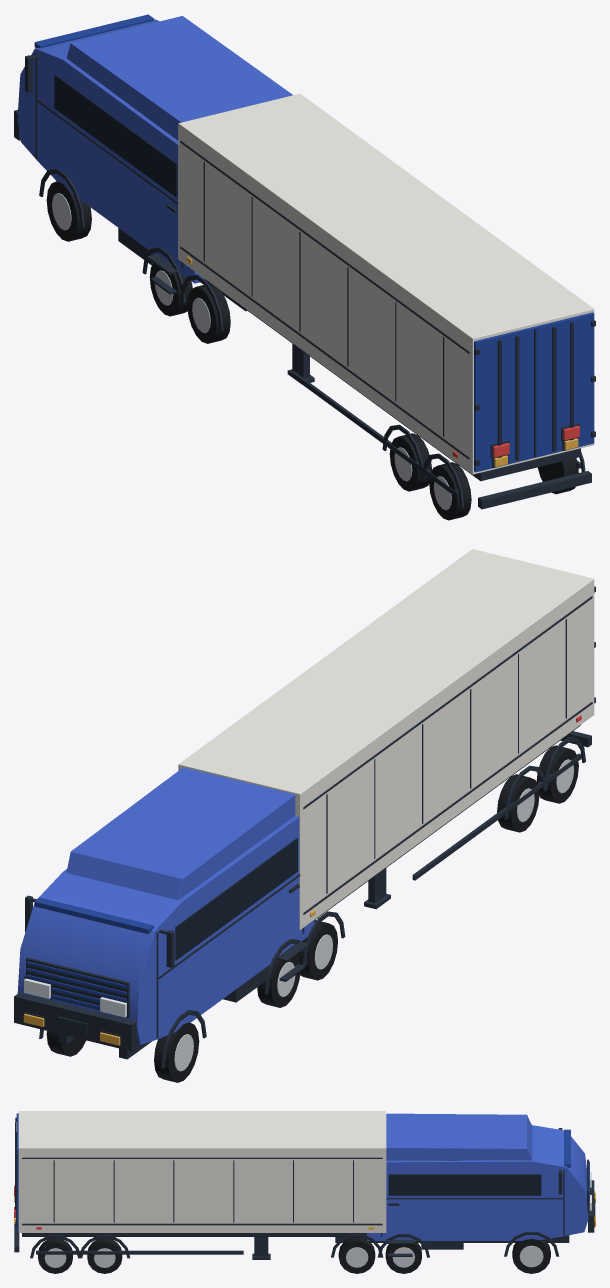
File: veh_truck_semi_01.glb
The picture shows the model from 3 angles, top to bottom: view 1: azimuth 30°, elevation 25°; view 2: azimuth 150°, elevation 25°; view 3: azimuth 270°, elevation 25°; orthographic projection. The views are drawn at different scales.
Parts seen in each view (by area): view 1: VEH_TRUCK_SEMI_01_ROOT; view 2: VEH_TRUCK_SEMI_01_ROOT; view 3: VEH_TRUCK_SEMI_01_ROOT.
Boxes of the visible parts, box(x1,y1,x2,y2) form: VEH_TRUCK_SEMI_01_ROOT: box(14, 14, 595, 520); VEH_TRUCK_SEMI_01_ROOT: box(14, 549, 595, 1082); VEH_TRUCK_SEMI_01_ROOT: box(14, 1111, 595, 1273).
Size of what is drawn, in the model's own units: 3.01 by 3.95 by 16.54.
